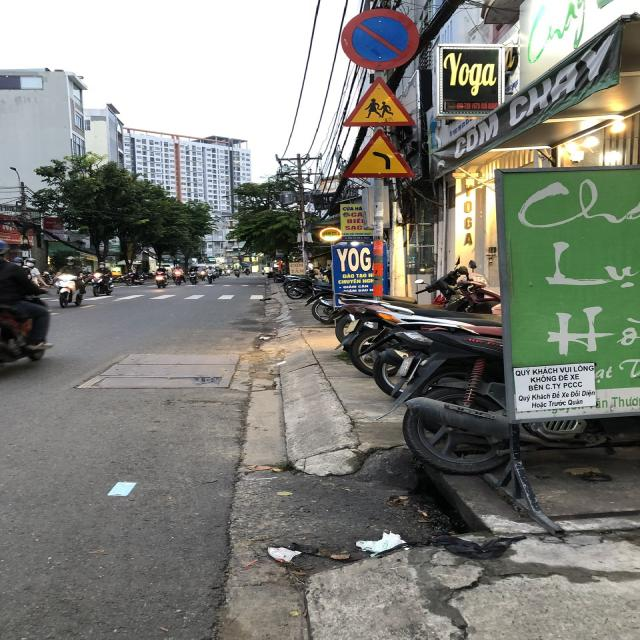Bien bao cam do xe: (339, 2, 424, 72)
Bien bao cho ngoat nguy hiem: (338, 127, 416, 182)
Bien bao tre em: (334, 74, 418, 132)
